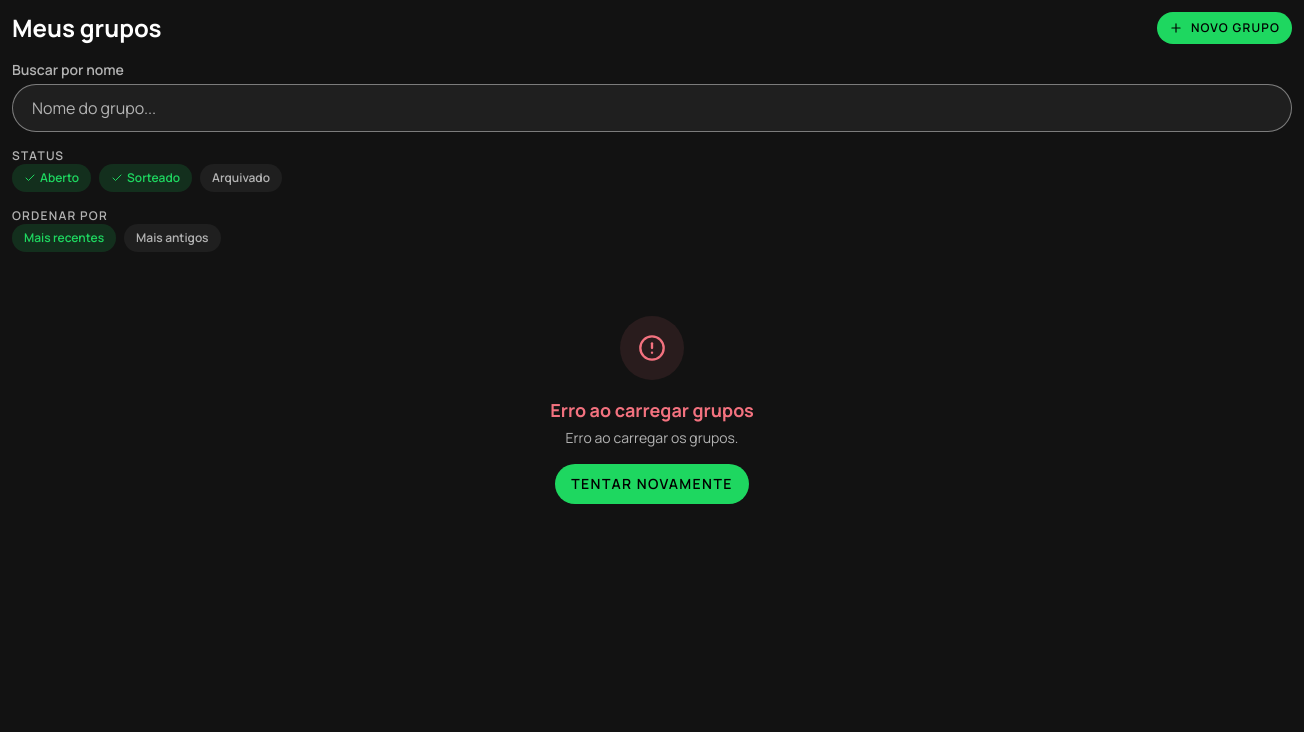
Test case: GroupList › error state (EmptyState variant="error") › retries the fetch when clicking "Tentar novamente"
The image size is (1304, 732).
Expected: the heading "Erro ao carregar grupos" is shown, [550,396,754,424]
Click the button "Tentar novamente".
click(652, 484)  # box [555,464,749,504]
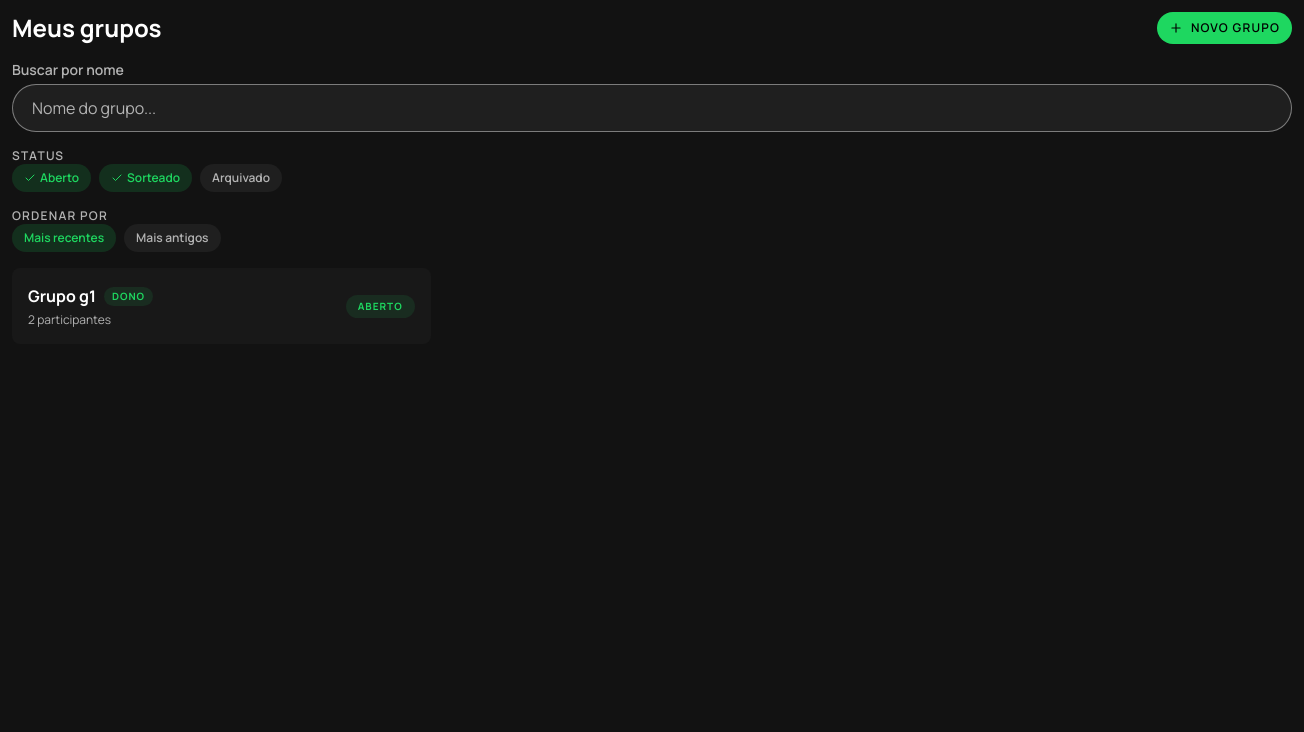
Expected: the heading "Grupo g1" is shown, [28,284,96,308]
